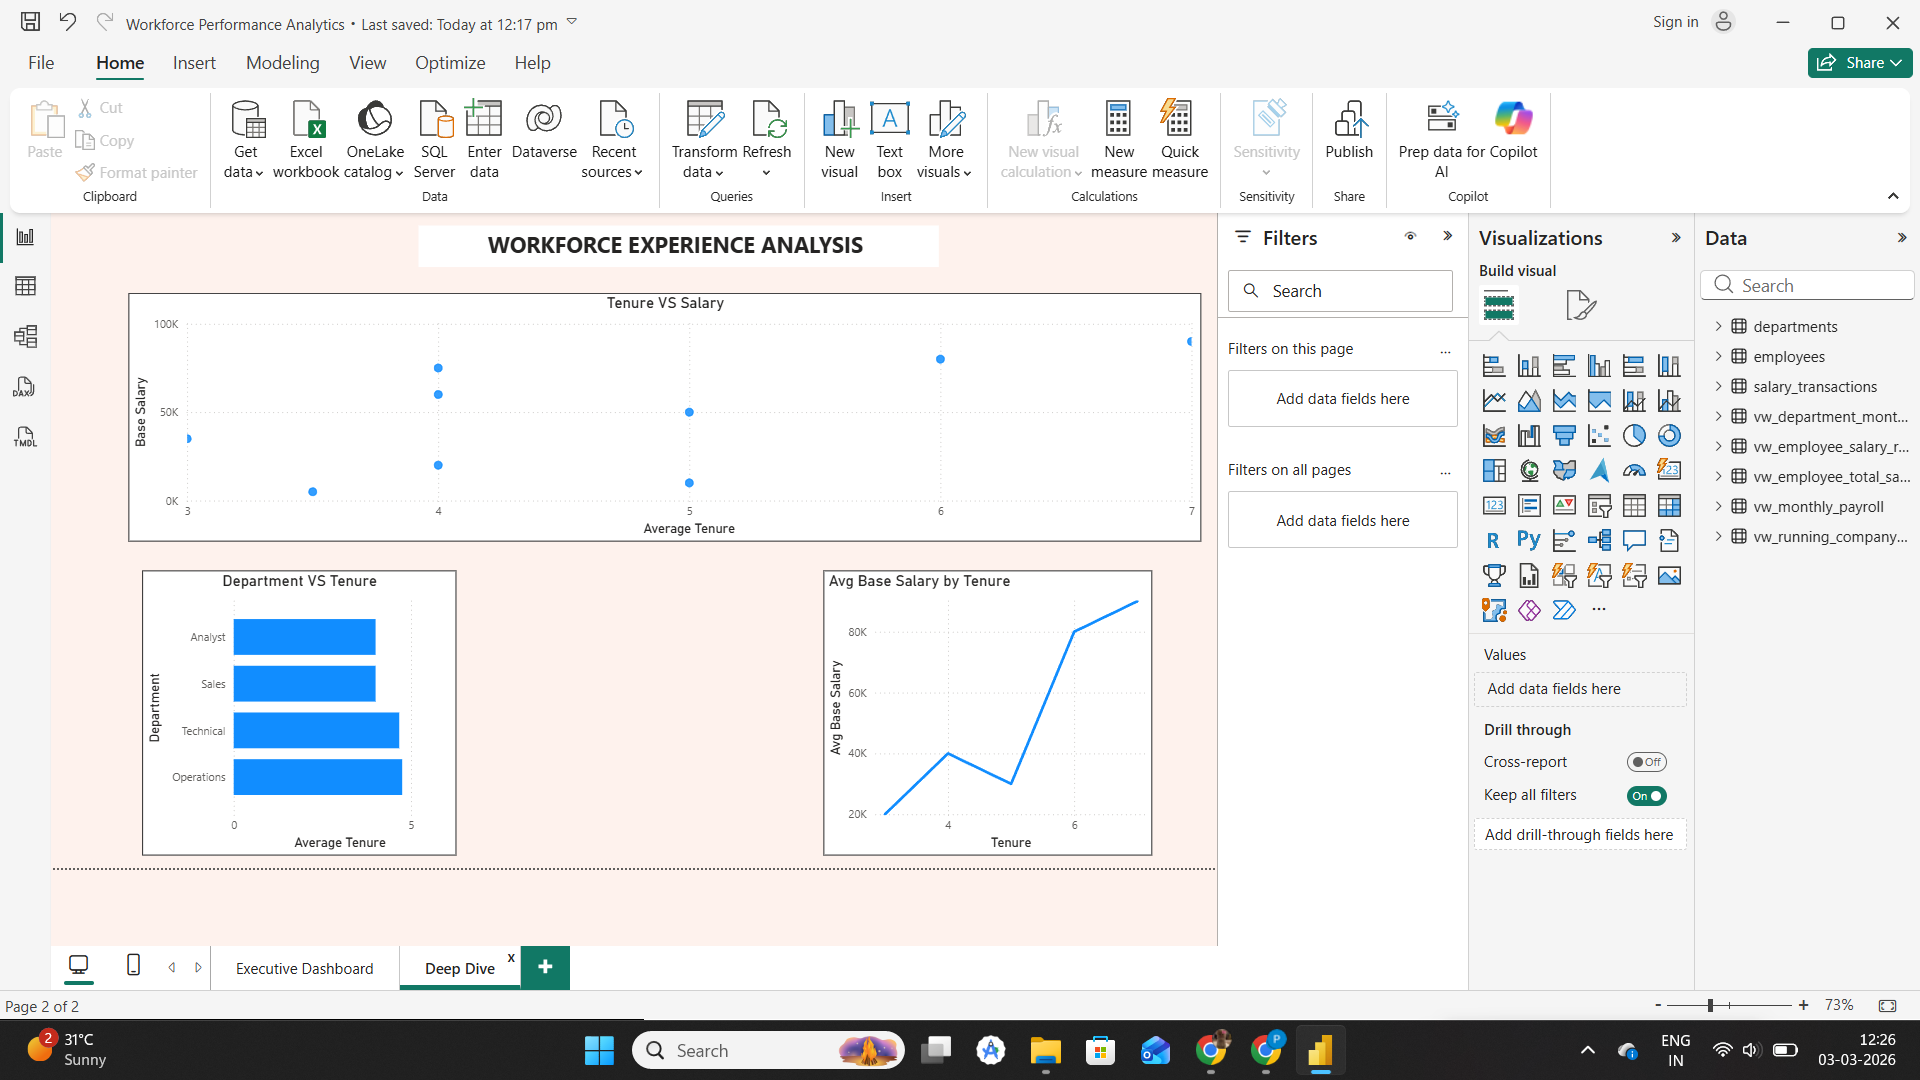

The page's visual inventory and layout, read from the dashboard file:
{"tool":"powerbi","page":{"name":"Deep Dive","canvas":[1280,720],"ordinal":1},"visuals":[{"type":"scatterChart","title":"Tenure VS Salary","fields":{"X":["salary_transactions.Avg_Tenure"],"Y":["employees.base_salary"]},"box":[85.1,87.8,1177.4,273.1],"z":0},{"type":"barChart","title":"Department VS Tenure","fields":{"Category":["departments.department_name"],"Y":["salary_transactions.Avg_Tenure"]},"box":[100.2,392.5,344.4,312.9],"z":1000},{"type":"textbox","box":[403.4,13.7,570.8,45.3],"z":2000},{"type":"lineChart","fields":{"Y":["employees.Avg Base Salary"],"Category":["employees.Tenure"]},"box":[848,392.5,360.9,312.9],"z":3000}]}

Visuals, with their boxes on the page's 1280x720 design canvas (x1, y1, x2, y2). These are canvas units, not pixel positions in the 1920x1080 screenshot, which may show the page scaled, cropped or inside an application window:
"Tenure VS Salary" scatterChart: 85, 88, 1262, 361
"Department VS Tenure" barChart: 100, 392, 445, 705
textbox: 403, 14, 974, 59
lineChart - employees.Avg Base Salary x employees.Tenure: 848, 392, 1209, 705
